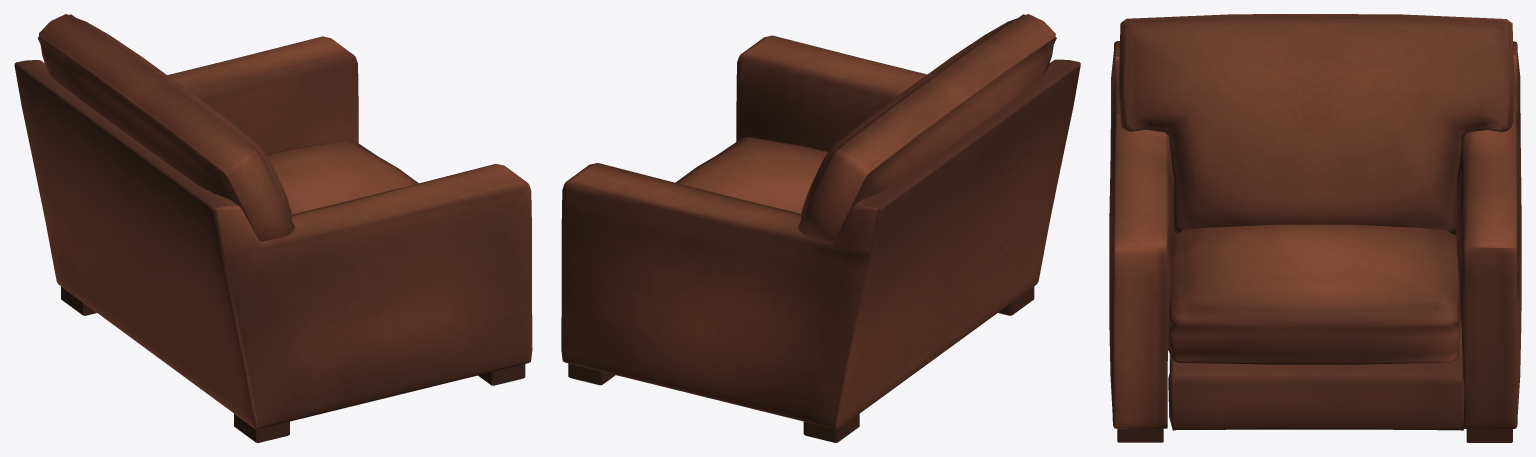
File: SofaChair.FBX
3 views of the same model, side by side, from view 1: azimuth 30°, elevation 25°; view 2: azimuth 150°, elevation 25°; view 3: azimuth 270°, elevation 25° (orthographic).
Parts seen in each view (by area): view 1: LivingRoomSofaChair; view 2: LivingRoomSofaChair; view 3: LivingRoomSofaChair.
Part boxes in pixels (x1=…): LivingRoomSofaChair: x1=14, y1=14, x2=532, y2=442; LivingRoomSofaChair: x1=561, y1=14, x2=1080, y2=442; LivingRoomSofaChair: x1=1109, y1=14, x2=1521, y2=442.
Size of the model in its own units: 109 by 95.2 by 121.
Materials: 1 (1 with a texture image).
